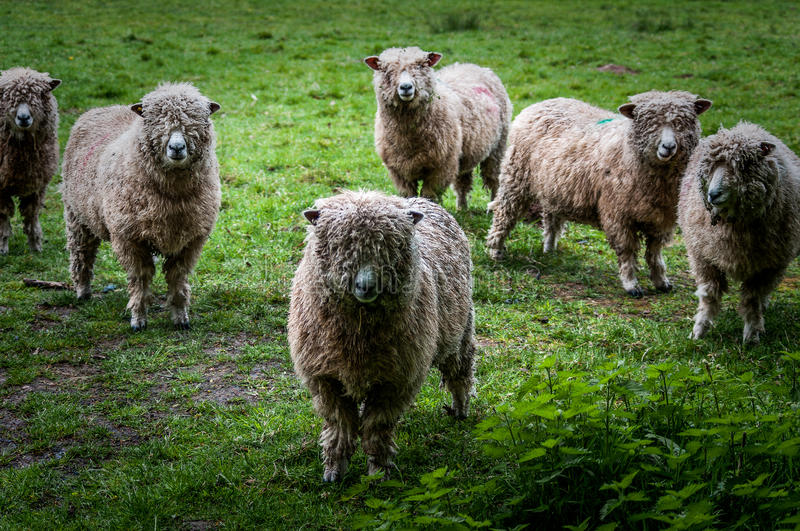sheep: (283, 185, 477, 494), (494, 70, 679, 321), (67, 71, 238, 327), (330, 17, 521, 209), (688, 106, 800, 354), (1, 45, 75, 224)
